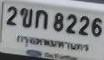letters: (20, 7, 33, 28), (35, 10, 47, 29), (66, 14, 77, 34), (91, 17, 102, 37), (7, 6, 17, 26), (79, 16, 89, 36), (54, 13, 64, 32)
province: (17, 35, 88, 51)
